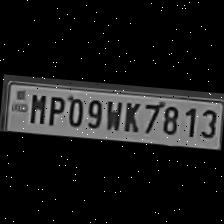0: (63, 92, 85, 128)
1: (179, 102, 200, 138)
3: (196, 104, 218, 140)
7: (138, 98, 160, 134)
8: (158, 100, 181, 136)
9: (82, 94, 104, 130)
K: (119, 96, 142, 132)
M: (24, 90, 46, 124)
P: (43, 90, 65, 126)
W: (102, 96, 124, 132)
